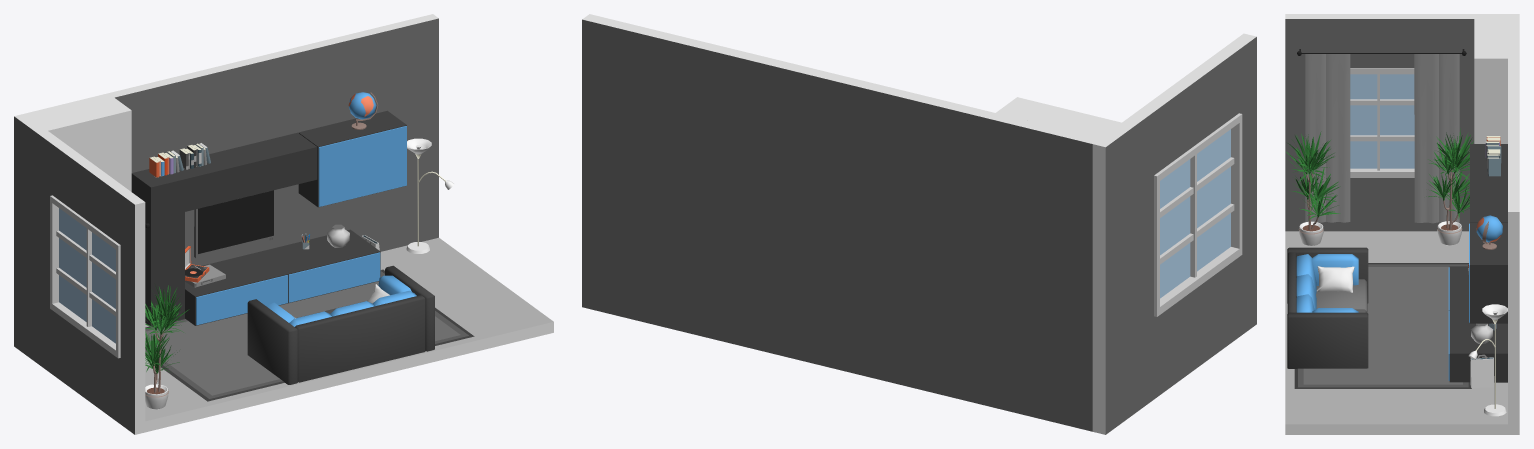
The model's file is room_11.glb.
3 renders of one model, left to right at view 1: azimuth 30°, elevation 25°; view 2: azimuth 150°, elevation 25°; view 3: azimuth 270°, elevation 25°, orthographic. The views are drawn at different scales.
Parts seen in each view (by area): view 1: Walls_046.021, tv_wall_015.001, Walls_192.001, sofa_033.001, Walls_046.004, carpet_004.009, window_020.005, Walls_046.005, Walls_003.046, Walls_046.006, Walls_046.007, flower_002.001 (+5 smaller); view 2: Walls_046.021, Walls_046.004, window_020.005, Walls_046.006, Walls_046.007, Walls_046.005, Walls_003.046; view 3: Walls_192.001, carpet_004.009, tv_wall_015.001, sofa_033.001, window_020.005, Curtains_023.008, Curtains_023.009, Walls_046.007, Walls_046.021, Walls_046.005, Walls_003.046, Walls_046.006 (+11 smaller).
Part boxes in pixels (x1=…): Walls_046.021: x1=25, y1=14, x2=438, y2=265; tv_wall_015.001: x1=131, y1=110, x2=406, y2=326; Walls_192.001: x1=145, y1=237, x2=553, y2=432; sofa_033.001: x1=247, y1=265, x2=434, y2=384; Walls_046.004: x1=14, y1=113, x2=63, y2=374; carpet_004.009: x1=145, y1=269, x2=474, y2=401; window_020.005: x1=50, y1=195, x2=120, y2=358; Walls_046.005: x1=120, y1=191, x2=145, y2=434; Walls_003.046: x1=31, y1=97, x2=131, y2=191; Walls_046.006: x1=53, y1=311, x2=119, y2=423; Walls_046.007: x1=53, y1=142, x2=129, y2=244; flower_002.001: x1=145, y1=285, x2=189, y2=392; Walls_046.021: x1=582, y1=14, x2=1099, y2=431; Walls_046.004: x1=1092, y1=108, x2=1154, y2=434; window_020.005: x1=1154, y1=113, x2=1242, y2=316; Walls_046.006: x1=1155, y1=258, x2=1237, y2=398; Walls_046.007: x1=1142, y1=47, x2=1237, y2=174; Walls_046.005: x1=1225, y1=33, x2=1256, y2=337; Walls_003.046: x1=996, y1=97, x2=1121, y2=138; Walls_192.001: x1=1285, y1=231, x2=1507, y2=434; carpet_004.009: x1=1294, y1=263, x2=1471, y2=388; tv_wall_015.001: x1=1448, y1=144, x2=1507, y2=382; sofa_033.001: x1=1287, y1=247, x2=1368, y2=368; window_020.005: x1=1350, y1=68, x2=1414, y2=177; Curtains_023.008: x1=1414, y1=54, x2=1459, y2=223; Curtains_023.009: x1=1305, y1=54, x2=1350, y2=222; Walls_046.007: x1=1314, y1=14, x2=1443, y2=68; Walls_046.021: x1=1508, y1=19, x2=1519, y2=434; Walls_046.005: x1=1285, y1=14, x2=1314, y2=231; Walls_003.046: x1=1474, y1=19, x2=1507, y2=143; Walls_046.006: x1=1318, y1=178, x2=1440, y2=231.
Size of the model in its own units: 8.05 by 4.2 by 4.
1 material, 1 textured.
